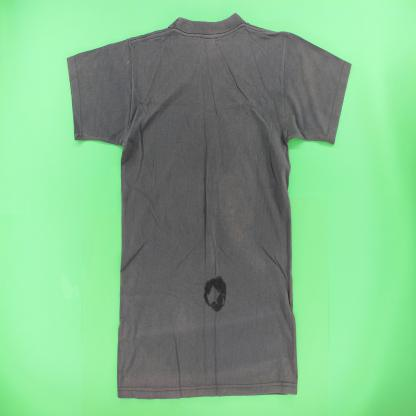stain: (202, 273, 229, 315)
